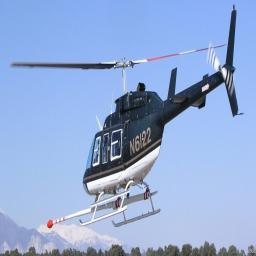helicopter: (11, 3, 244, 230)
